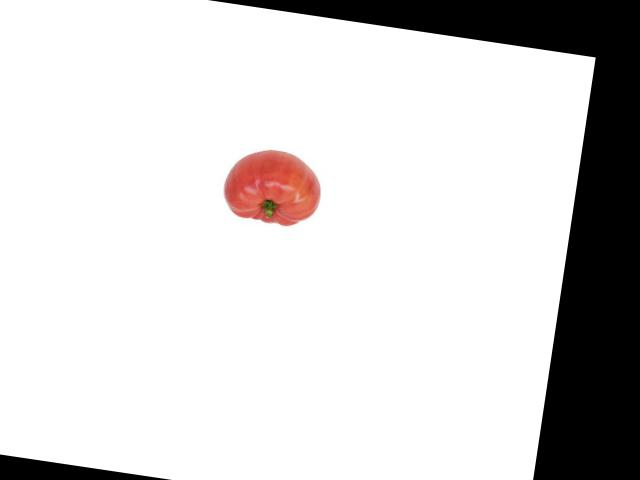tomato: (221, 144, 326, 228)
